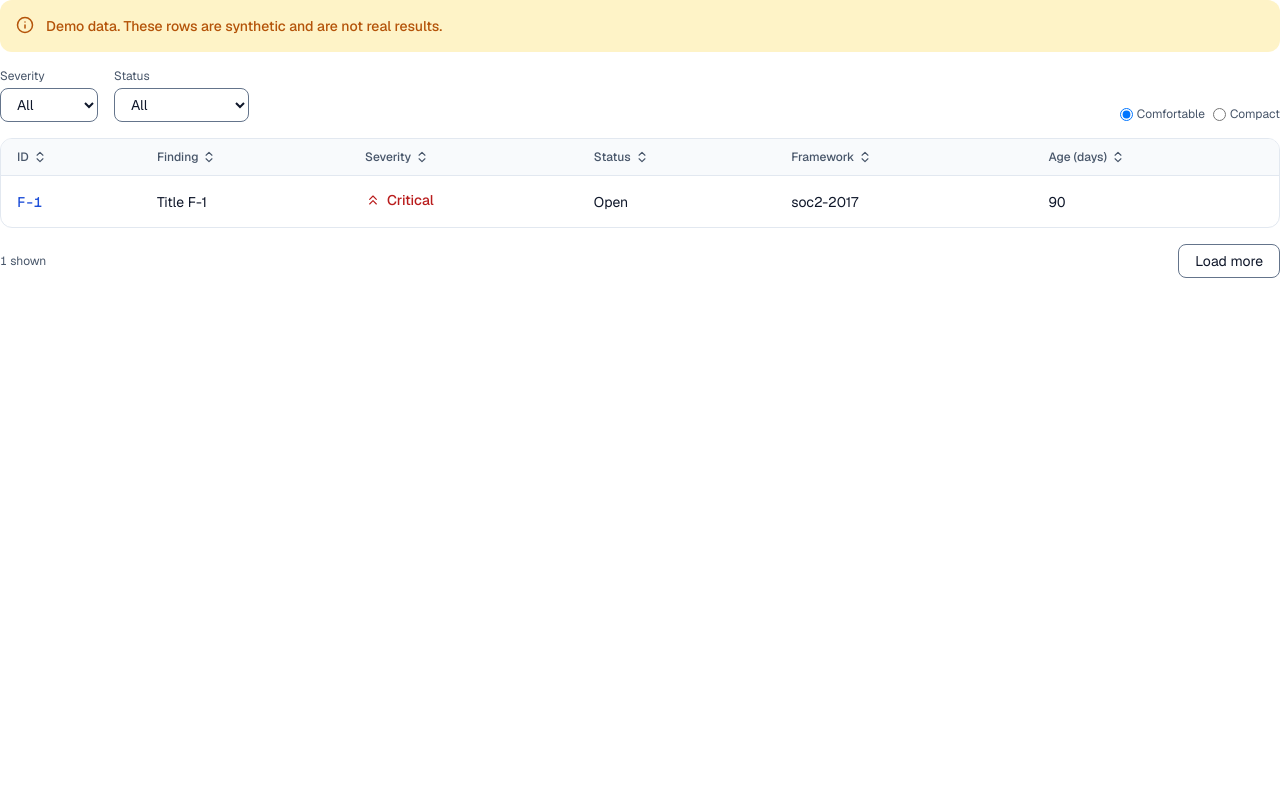
Test case: findings load through the BFF, are labelled demo data, page on request and open a drawer
Check: the text "Demo data" is shown, box x1=46 y1=17 x2=442 y2=35
Check: the text "Critical" is shown, box x1=365 y1=190 x2=434 y2=210
Click the button "Load more" at coordinates (1229, 261), box x1=1178 y1=244 x2=1279 y2=278
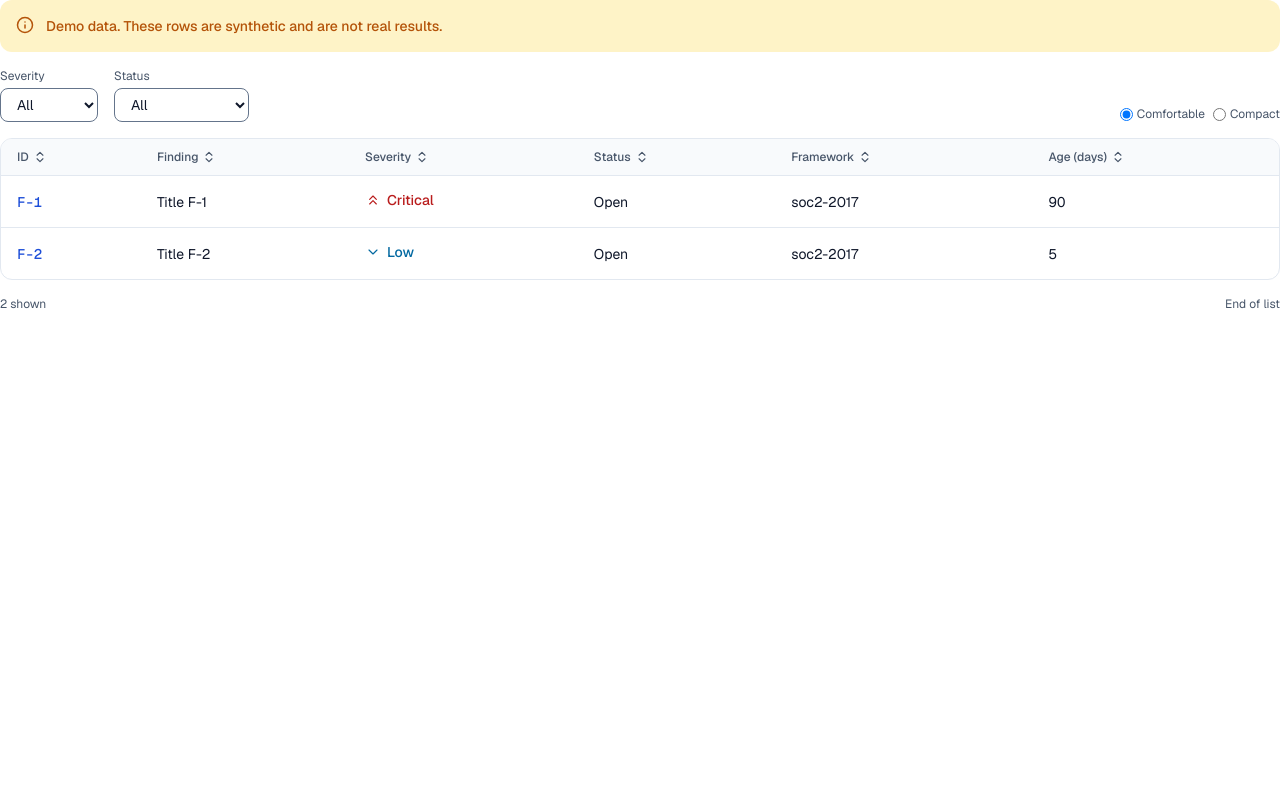
Check: the text "F-2" is shown, box x1=17 y1=244 x2=42 y2=262
Check: the text "End of list" is shown, box x1=1225 y1=296 x2=1279 y2=312
Click the button "F-1" at coordinates (30, 202), box x1=17 y1=192 x2=42 y2=212
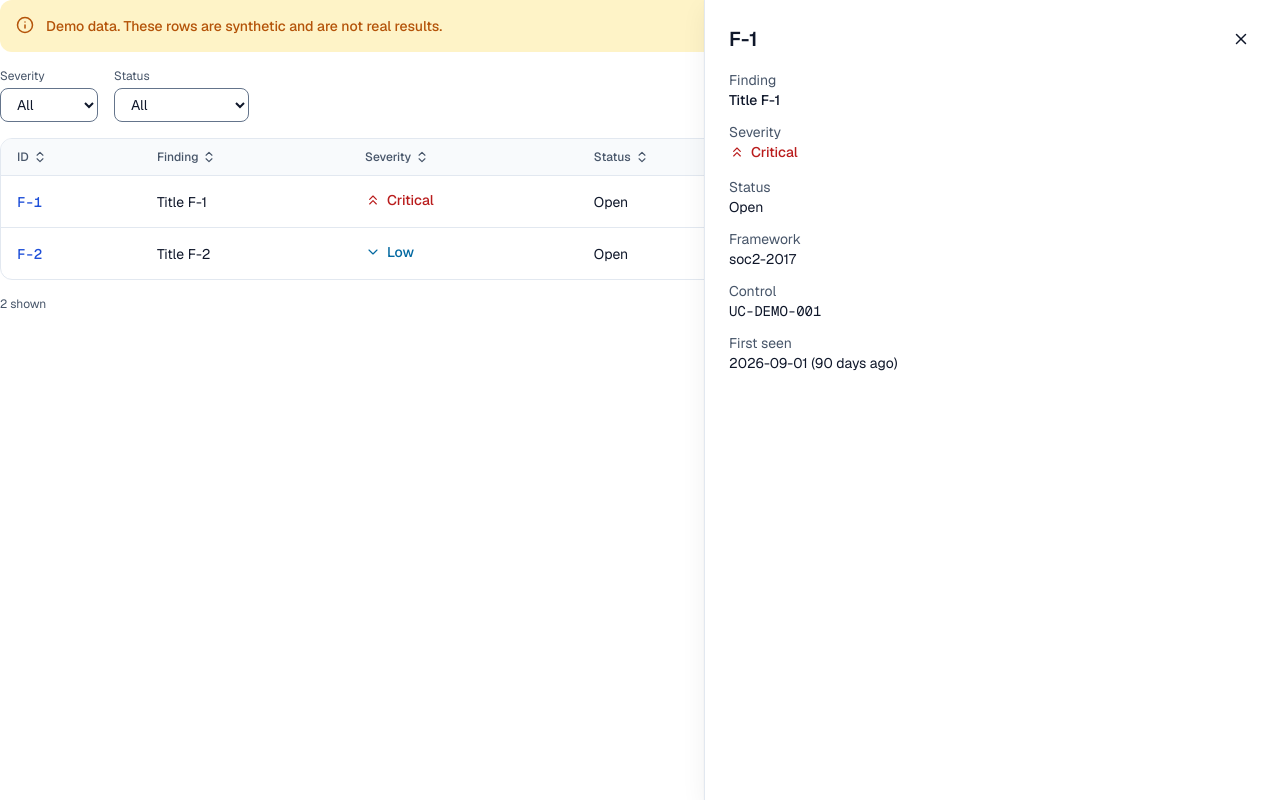
Check: the dialog "F-1" is shown, box x1=704 y1=0 x2=1279 y2=799
Press Escape
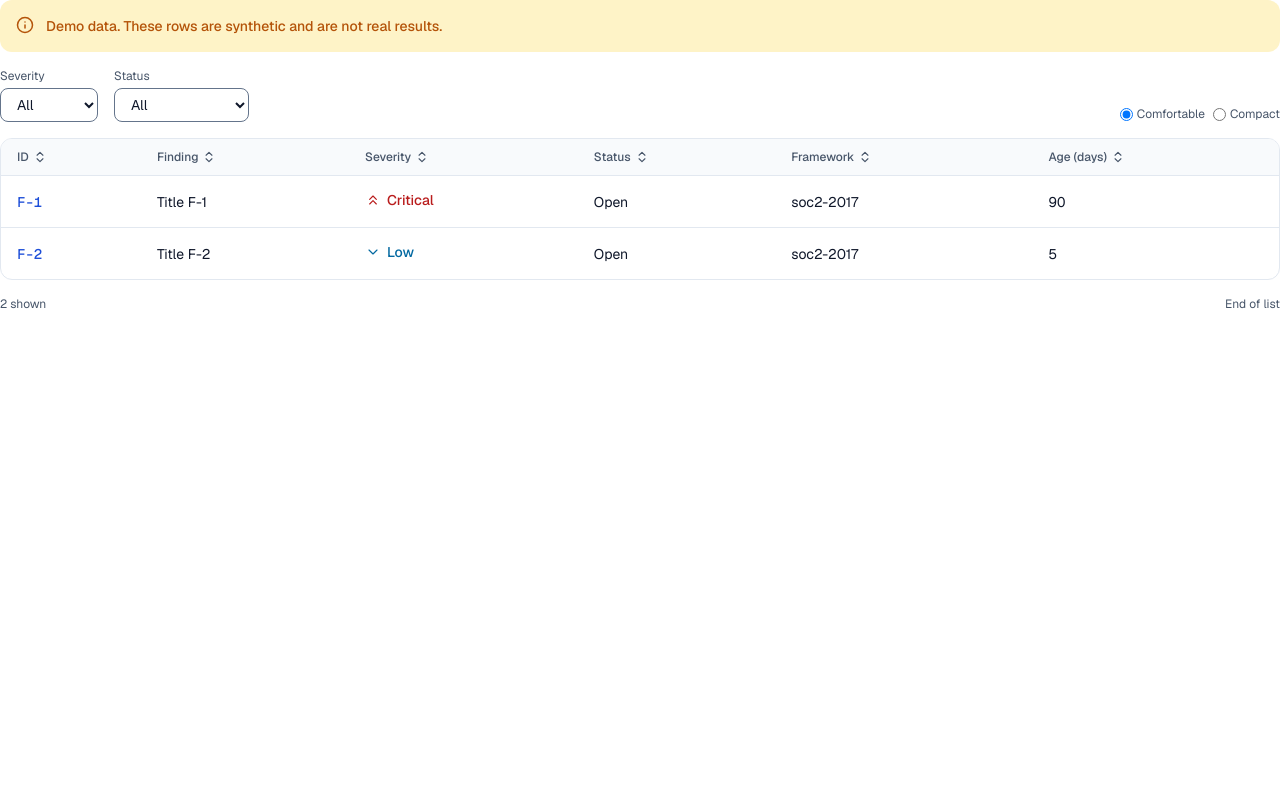
Check: the dialog is gone
